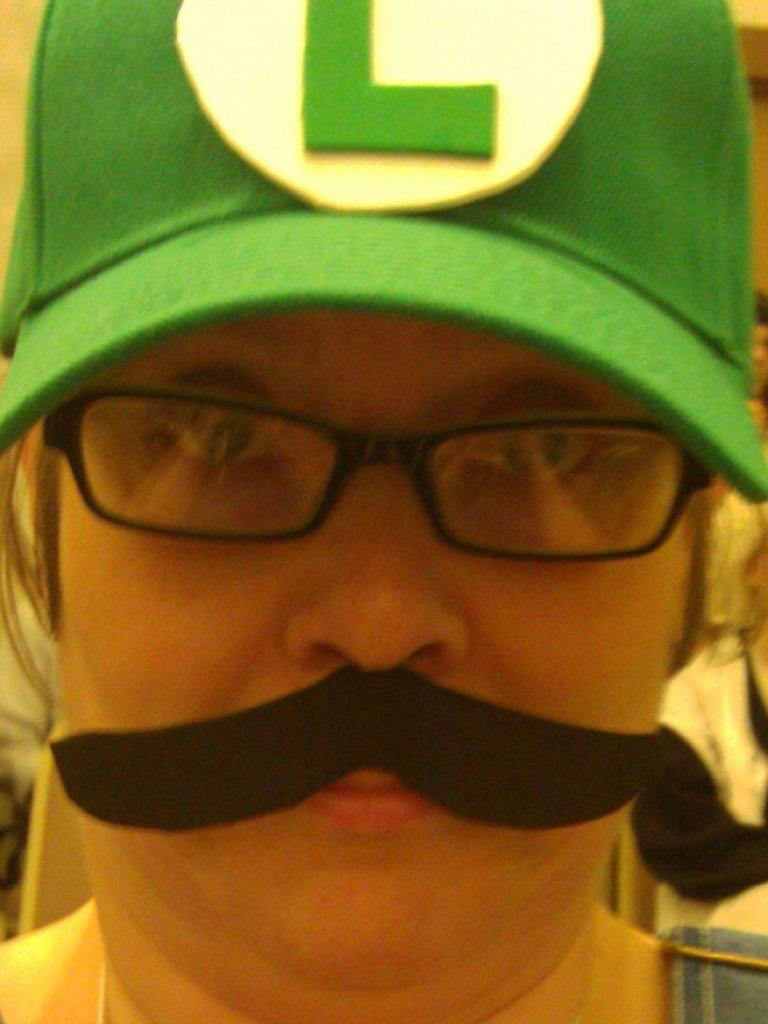Hat: (0, 0, 767, 508)
